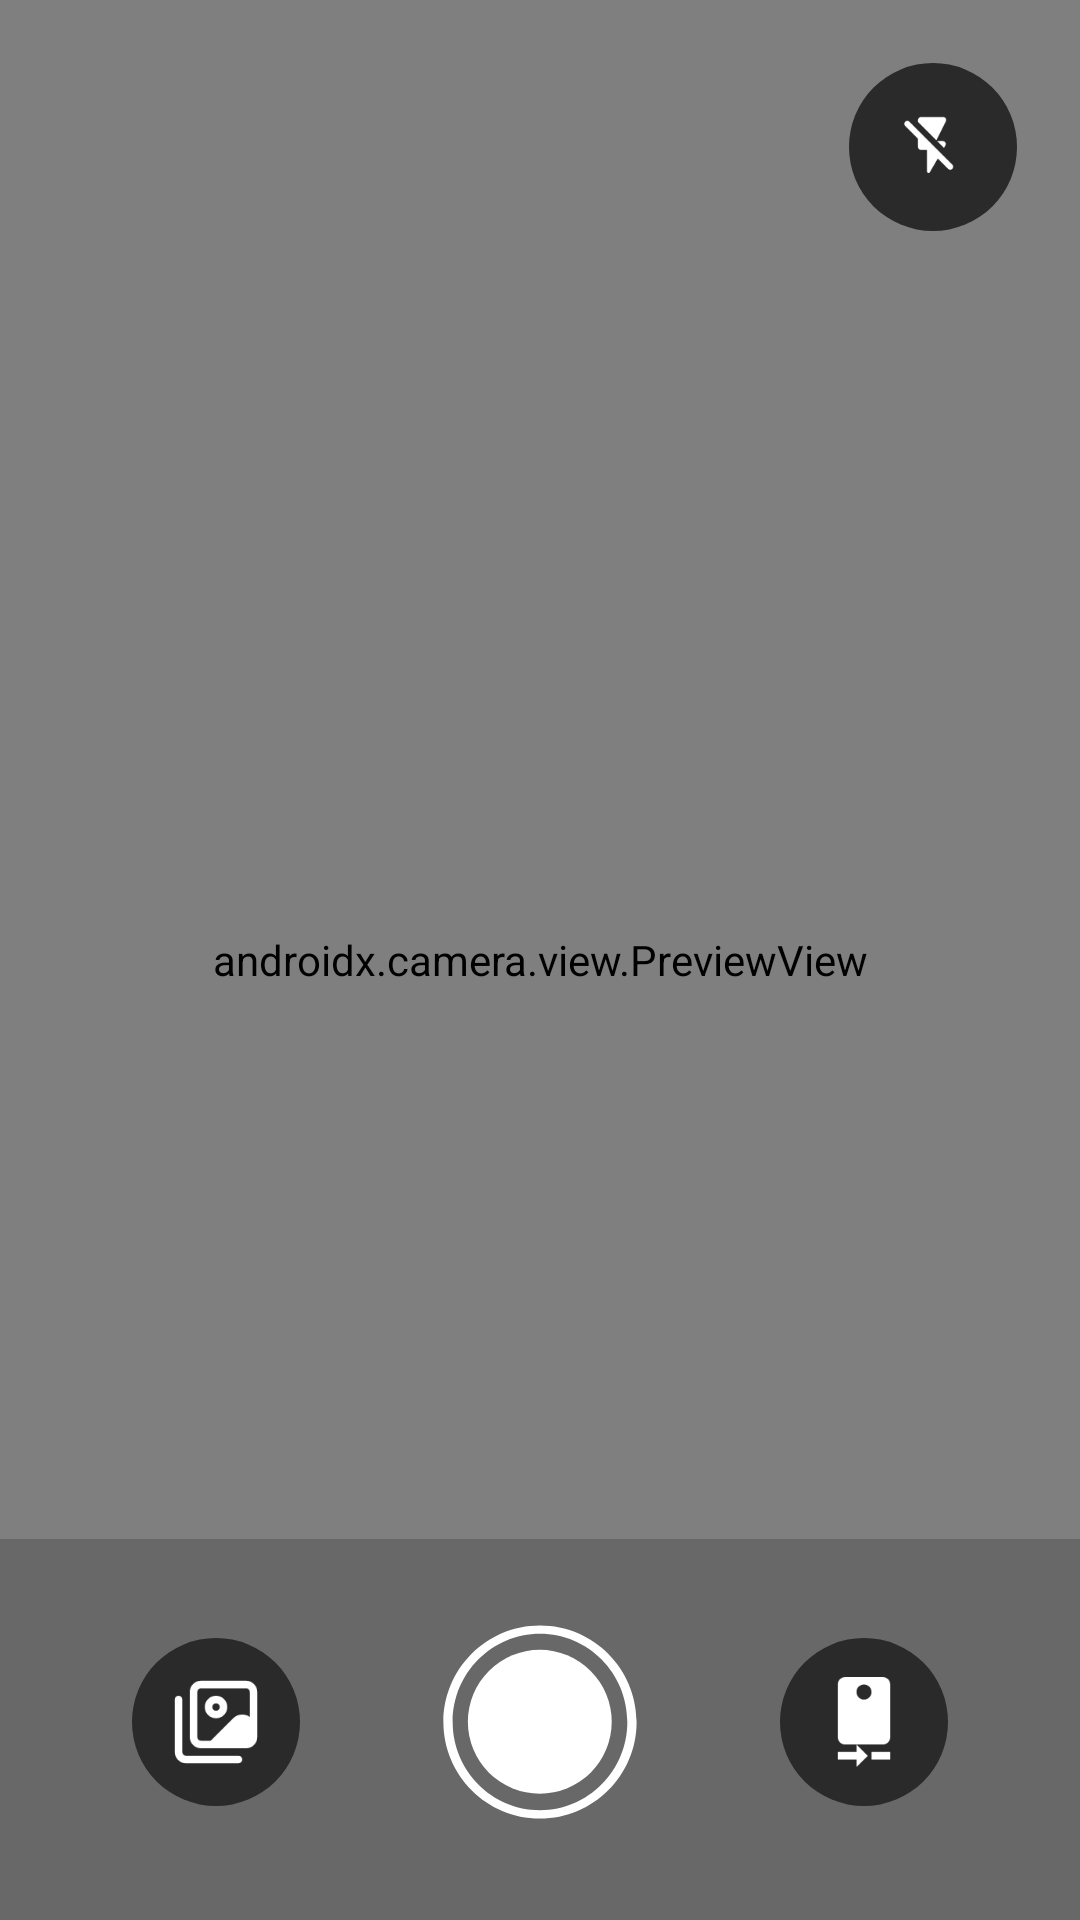

Icon bounding boxes for this 1080 x 1920 phone screenshot, format (x1, y1, x2, y2):
camera rear: (780, 1638, 948, 1806)
flash off: (849, 63, 1017, 231)
Take Picture: (443, 1625, 637, 1819)
thumbnails: (132, 1638, 300, 1806)
